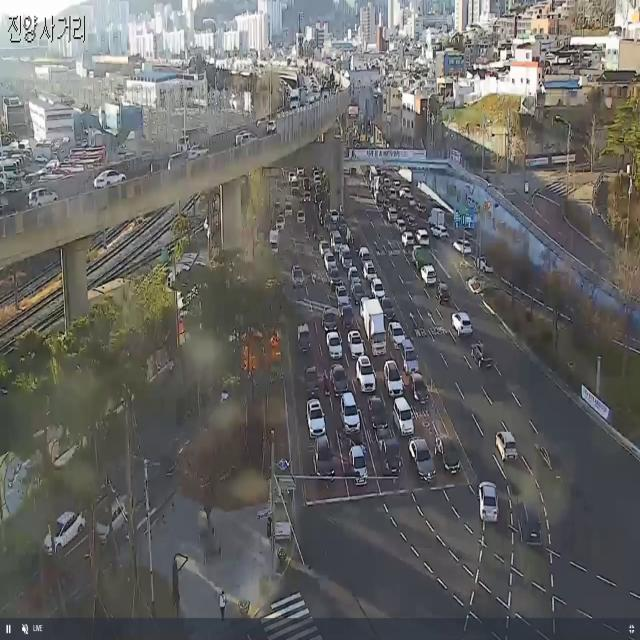motorcycle: (41, 506, 84, 554), (95, 490, 128, 543), (362, 300, 388, 356), (377, 426, 402, 477), (410, 434, 436, 483), (312, 435, 336, 485), (518, 499, 542, 548), (435, 432, 462, 474), (339, 390, 361, 435), (348, 445, 370, 488), (368, 392, 390, 435), (478, 479, 499, 522), (409, 368, 430, 409), (356, 353, 377, 393), (307, 396, 326, 440), (384, 359, 405, 398), (394, 394, 414, 434), (401, 333, 419, 376), (331, 360, 350, 398), (496, 427, 517, 461), (471, 340, 494, 370), (413, 244, 435, 275), (452, 309, 473, 339), (306, 362, 320, 398), (426, 204, 446, 229), (436, 280, 452, 304), (422, 262, 436, 287)
